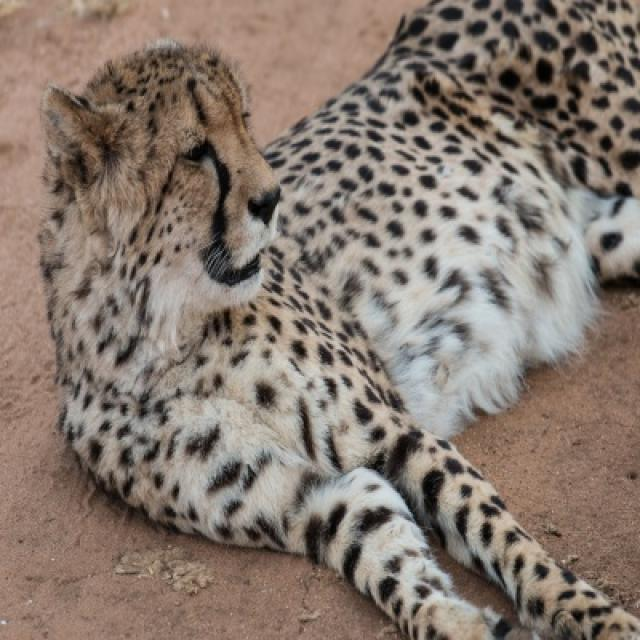Cheetah: (44, 4, 638, 635)
